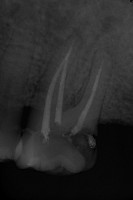Furcation Involvement: (70, 25, 85, 40)
